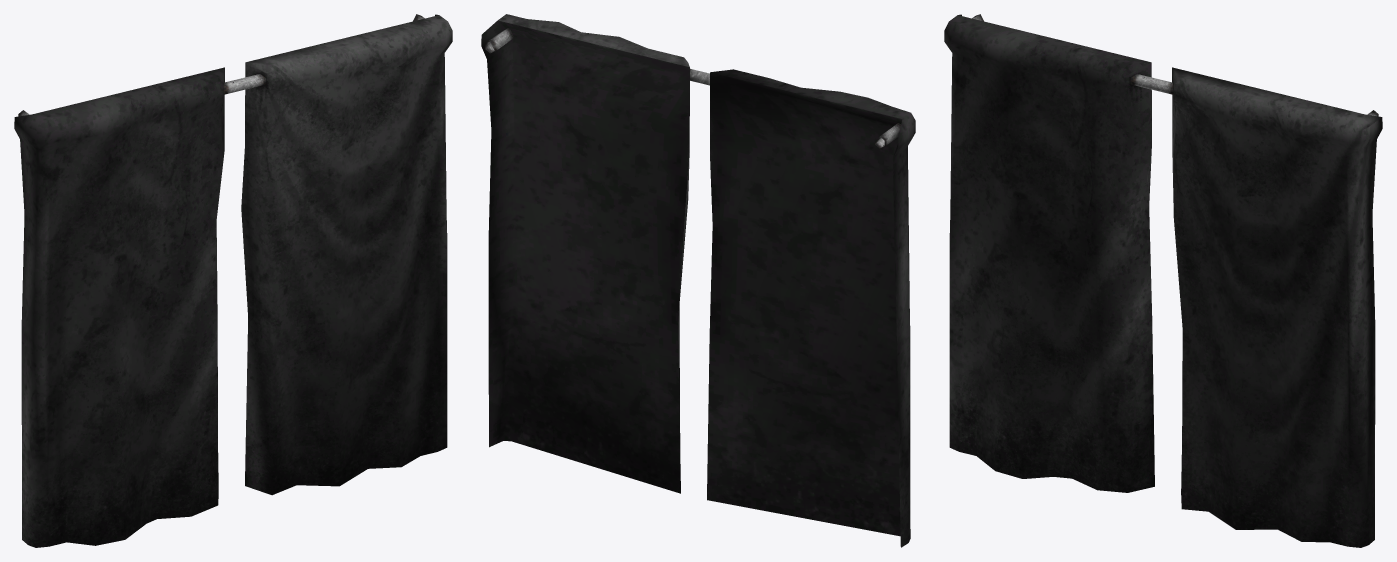
The model's file is curtain11_closed.dae.
3 views of the same model, side by side, from view 1: azimuth 30°, elevation 25°; view 2: azimuth 150°, elevation 25°; view 3: azimuth 330°, elevation 25° (orthographic).
Parts seen in each view (by area): view 1: curtain01_closed; view 2: curtain01_closed; view 3: curtain01_closed.
Boxes of the visible parts, bbox=[...] form: curtain01_closed: bbox=[14, 14, 452, 547]; curtain01_closed: bbox=[481, 14, 915, 547]; curtain01_closed: bbox=[944, 14, 1382, 547].
Bounding box in the file's own units: 3.74 × 3.68 × 0.508.
